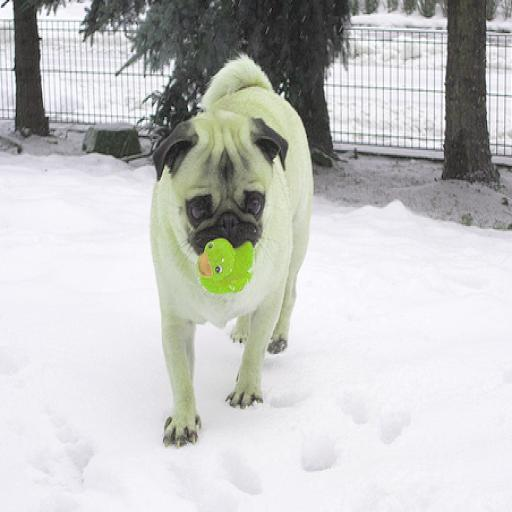dog_face: (151, 110, 292, 284)
